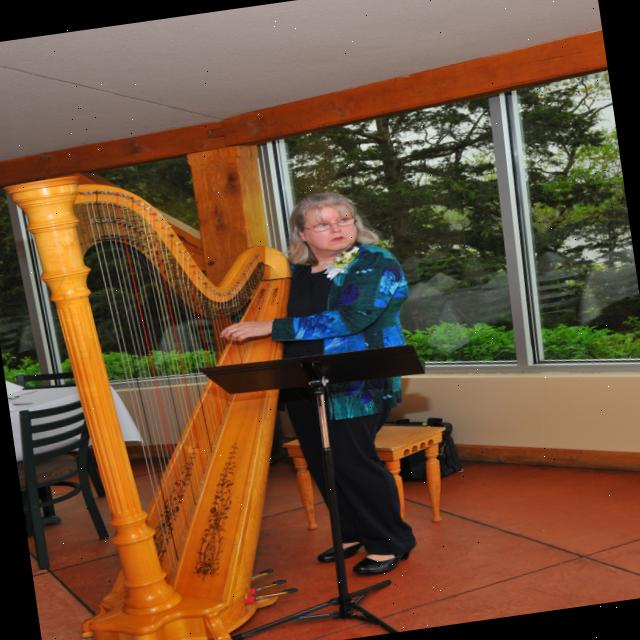harp: (0, 145, 345, 640)
